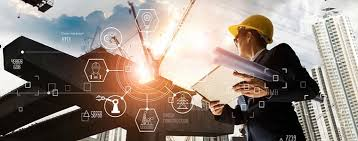hard hat: (228, 15, 274, 43)
